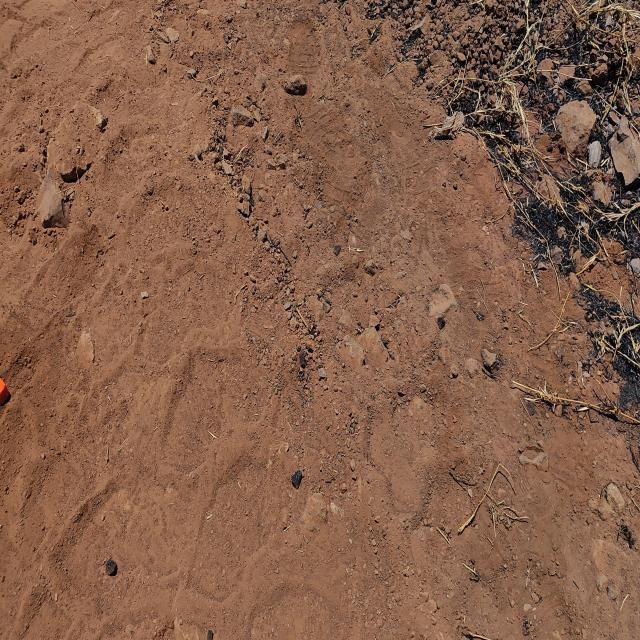Orange_hammer: (0, 374, 10, 408)
